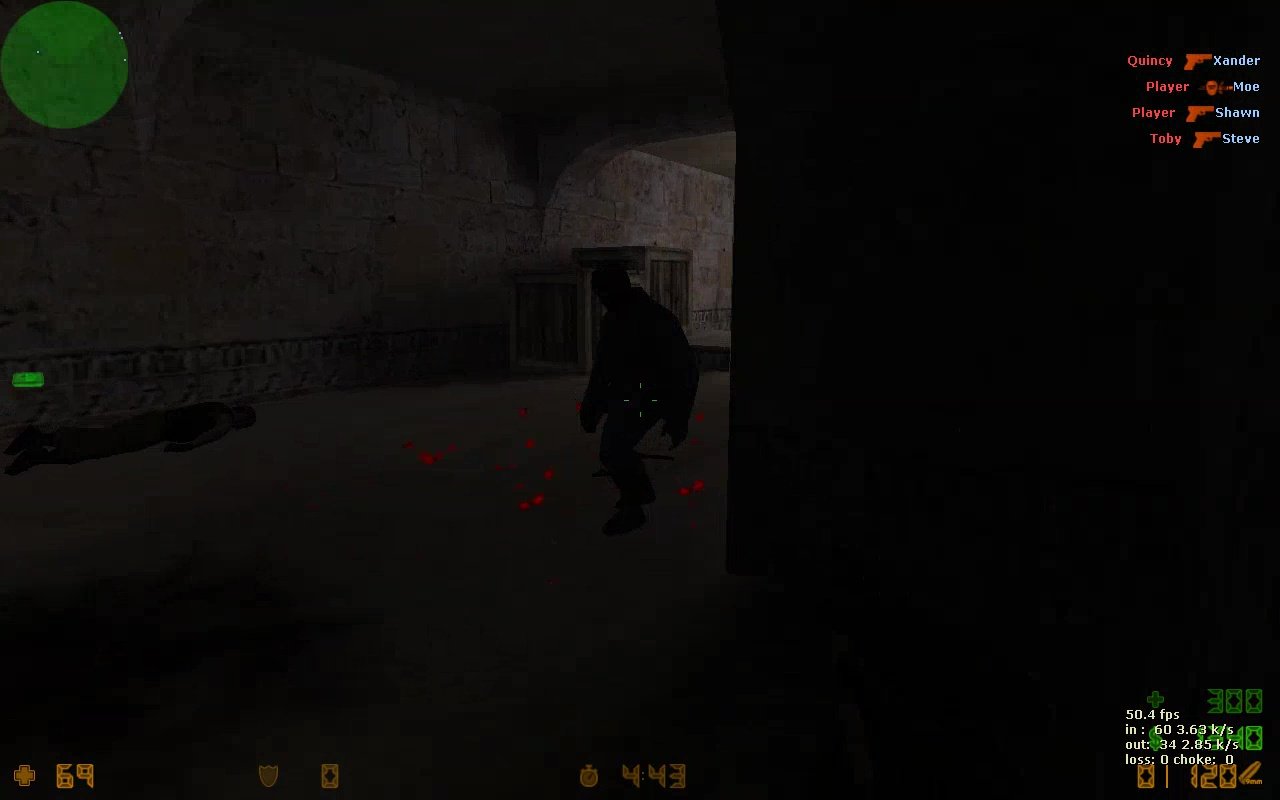ct: (584, 270, 694, 533)
dead: (2, 401, 253, 480)
